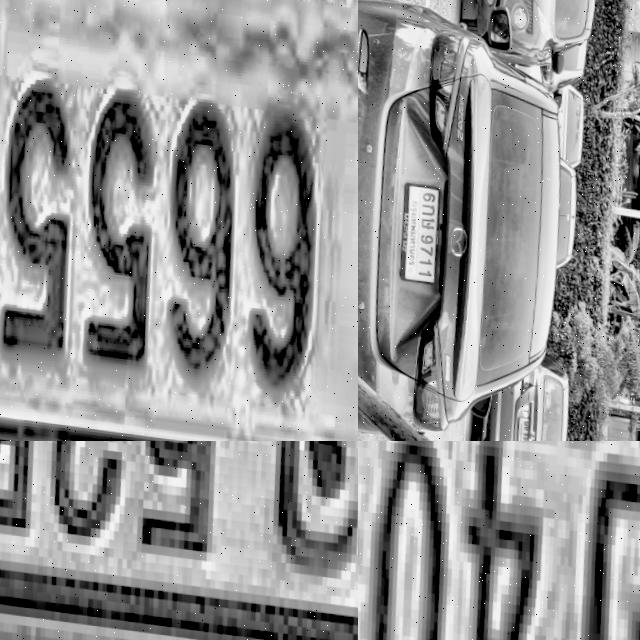license-plate: (0, 0, 358, 441), (0, 441, 358, 640), (358, 441, 640, 640), (459, 145, 541, 206), (358, 292, 367, 315)
